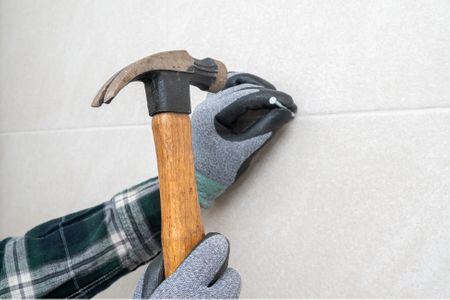hammer: (91, 50, 229, 236)
